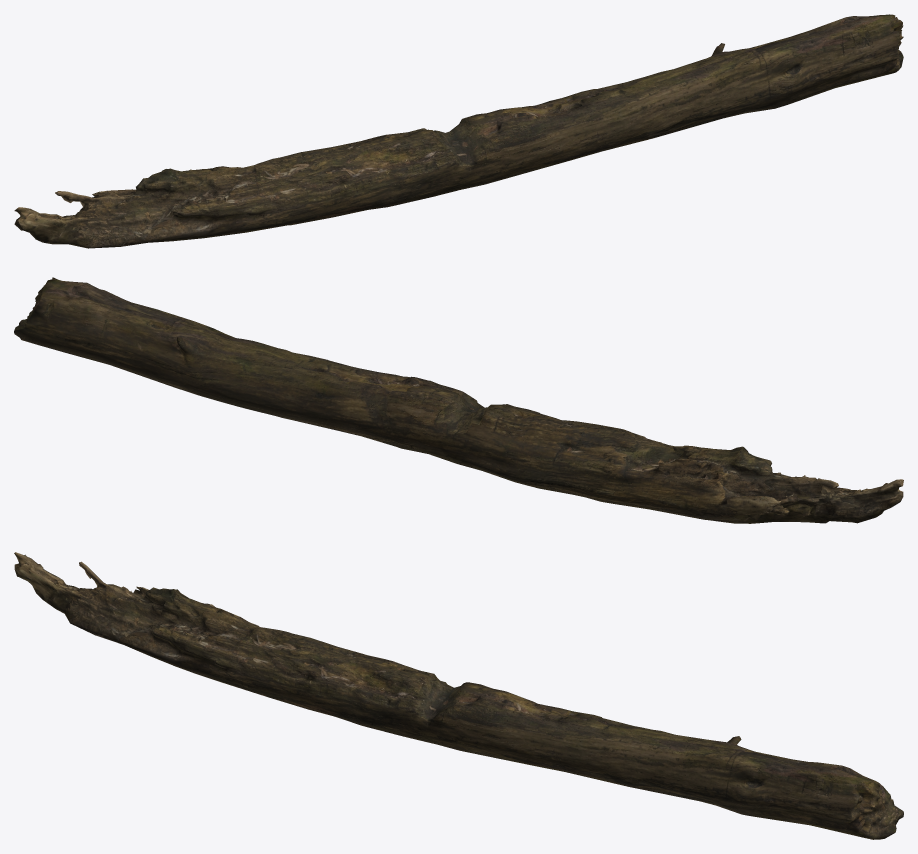
The model's file is deadwood.glb.
3 views of the same model, one above another, from view 1: azimuth 30°, elevation 25°; view 2: azimuth 150°, elevation 25°; view 3: azimuth 330°, elevation 25° (orthographic).
Parts seen in each view (by area): view 1: dead_tree_trunk; view 2: dead_tree_trunk; view 3: dead_tree_trunk.
Part boxes in pixels (x1,y1,x2,y2): dead_tree_trunk: (14, 14, 903, 248); dead_tree_trunk: (14, 277, 903, 523); dead_tree_trunk: (14, 552, 903, 839).
Size of the model in its own units: 3.05 by 0.2904 by 0.2773.
Materials: 1 (1 with a texture image).
